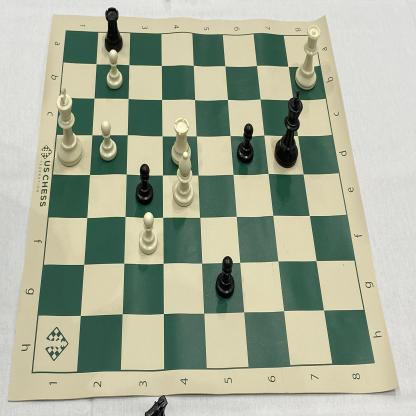black-king: (270, 87, 306, 172)
black-pawn: (234, 119, 258, 167), (133, 159, 156, 207), (215, 252, 237, 301)
black-rook: (101, 2, 125, 56)
white-bishop: (172, 150, 197, 212)
white-king: (52, 83, 87, 171)
white-pawn: (136, 209, 161, 257), (96, 115, 119, 165), (103, 45, 127, 91)
white-queen: (291, 22, 324, 94)
white-rook: (167, 113, 196, 170)
